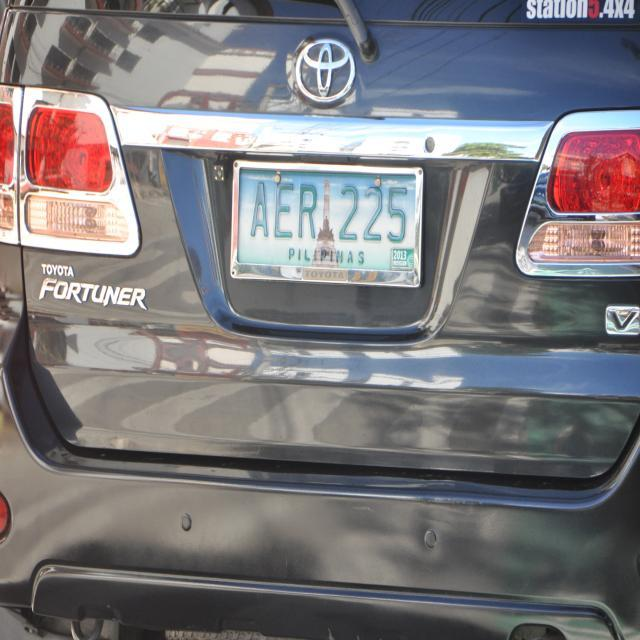LicensePlate: (221, 154, 433, 298)
